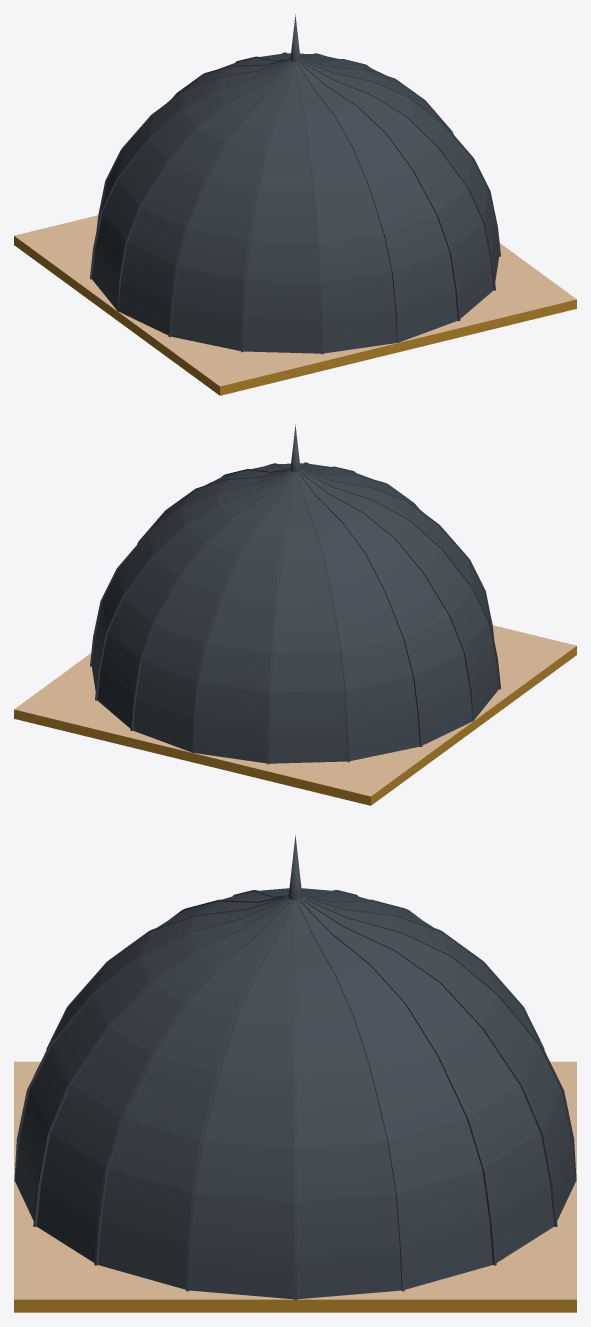
The model's file is Dome.fbx.
3 renders of one model, top to bottom at view 1: azimuth 30°, elevation 25°; view 2: azimuth 150°, elevation 25°; view 3: azimuth 270°, elevation 25°, orthographic. The views are drawn at different scales.
Visible parts, largest first — view 1: Dome, Floor.001; view 2: Dome, Floor.001; view 3: Dome, Floor.001.
Part boxes in pixels (bbox=[...]): Dome: bbox=[90, 14, 500, 354]; Floor.001: bbox=[14, 215, 576, 395]; Dome: bbox=[90, 424, 500, 764]; Floor.001: bbox=[14, 625, 576, 805]; Dome: bbox=[14, 834, 576, 1299]; Floor.001: bbox=[14, 1061, 576, 1312].
Size of the model in its own units: 800 by 563 by 800.
